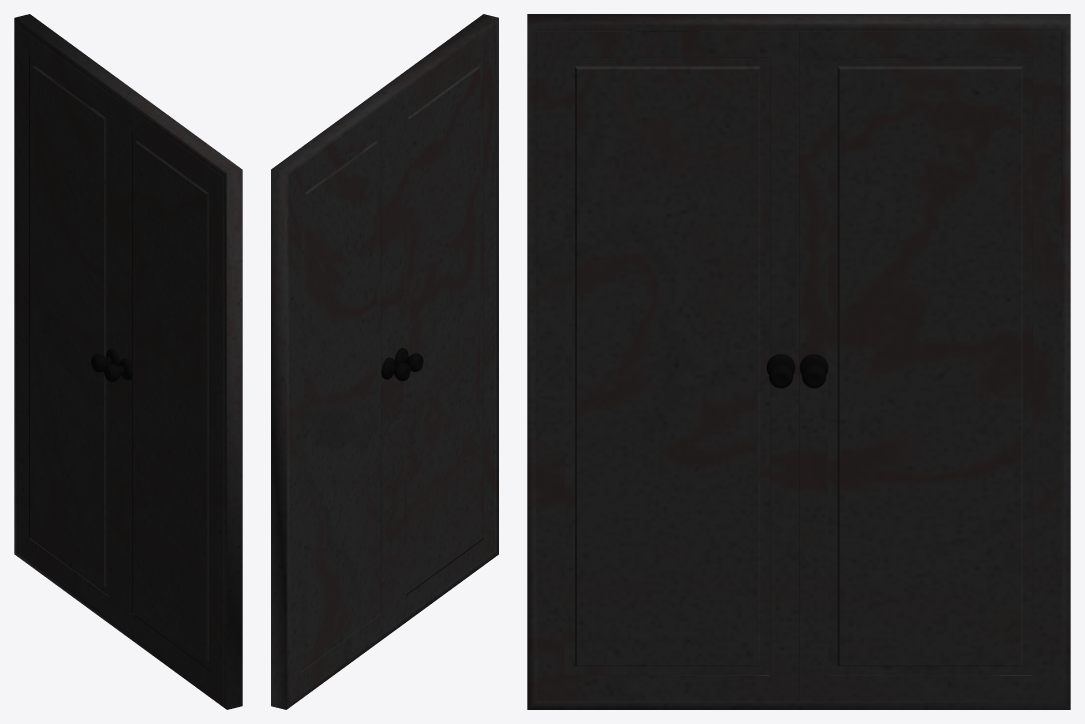
Rendered from PanelDoorFactory5447300.spawn_asset1.glb.
3 renders of one model, left to right at view 1: azimuth 30°, elevation 25°; view 2: azimuth 150°, elevation 25°; view 3: azimuth 270°, elevation 25°, orthographic. The views are drawn at different scales.
Visible parts, largest first — view 1: PanelDoorFactory(5447300).spawn_asset(1).001; view 2: PanelDoorFactory(5447300).spawn_asset(1).001; view 3: PanelDoorFactory(5447300).spawn_asset(1).001.
Boxes of the visible parts, x1=… form: PanelDoorFactory(5447300).spawn_asset(1).001: x1=14, y1=14, x2=242, y2=709; PanelDoorFactory(5447300).spawn_asset(1).001: x1=271, y1=14, x2=498, y2=709; PanelDoorFactory(5447300).spawn_asset(1).001: x1=527, y1=14, x2=1070, y2=709.
Size of the model in its own units: 0.2645 by 2.38 by 1.71.
1 material, 1 textured.
